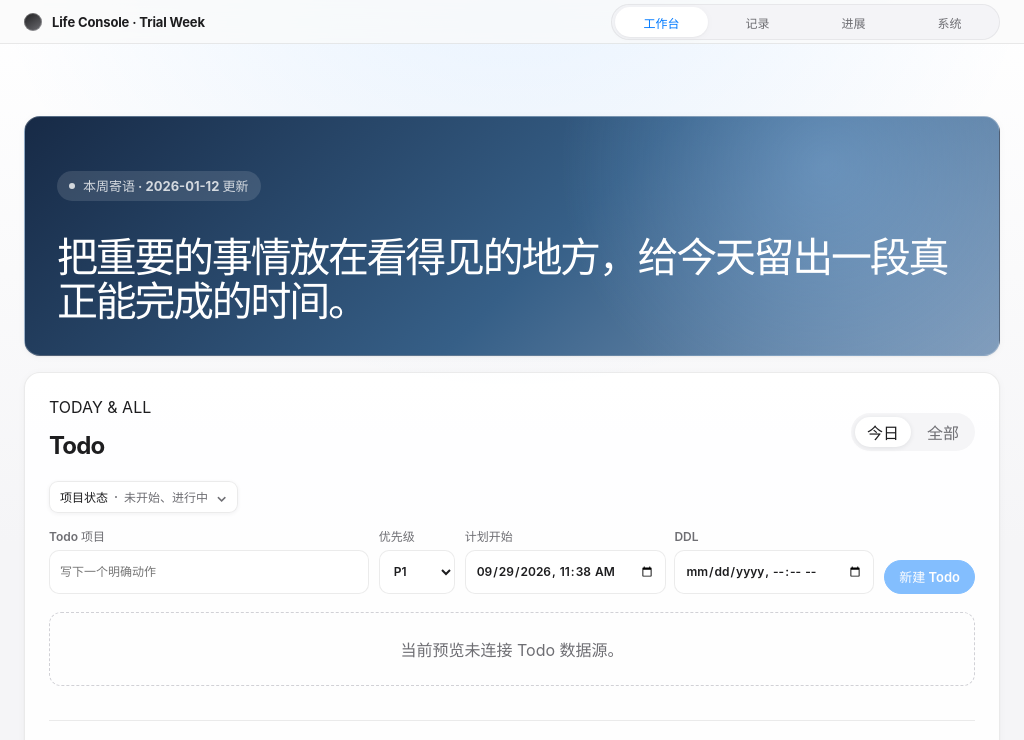
Test case: Life Console synthetic UI › saves conversation capture without browser persistence in demo mode
This screenshot has width=1024, height=740.
Click the button "记录" at [757, 22], box [711,7,804,37]
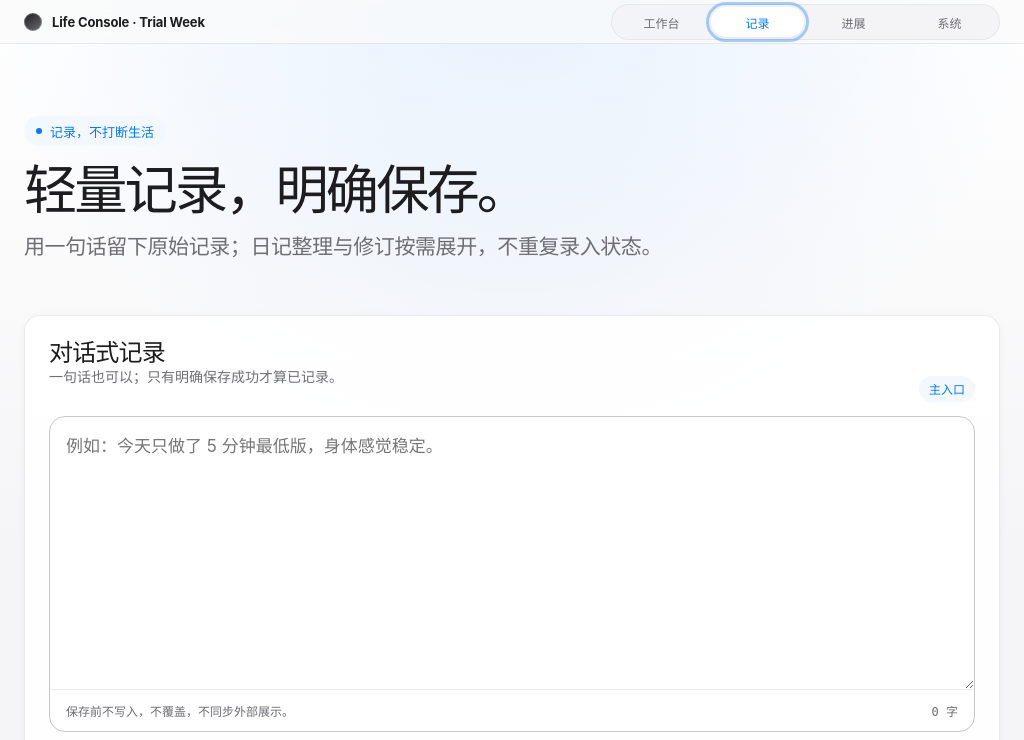
Type "这是一段只用于测试的合成记录。" into the text box named "直接描述想记录的内容" at [512, 553], box [50,417,974,689]
(page scrolled)
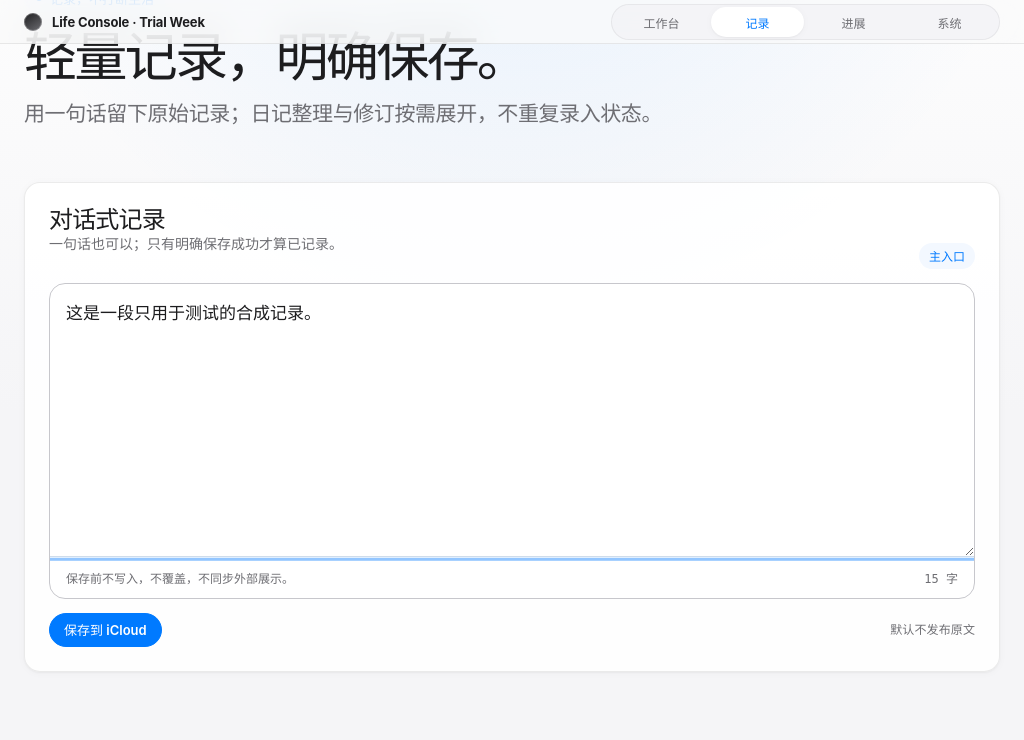
Click the button "保存到 iCloud" at [105, 630], box [49,613,162,647]
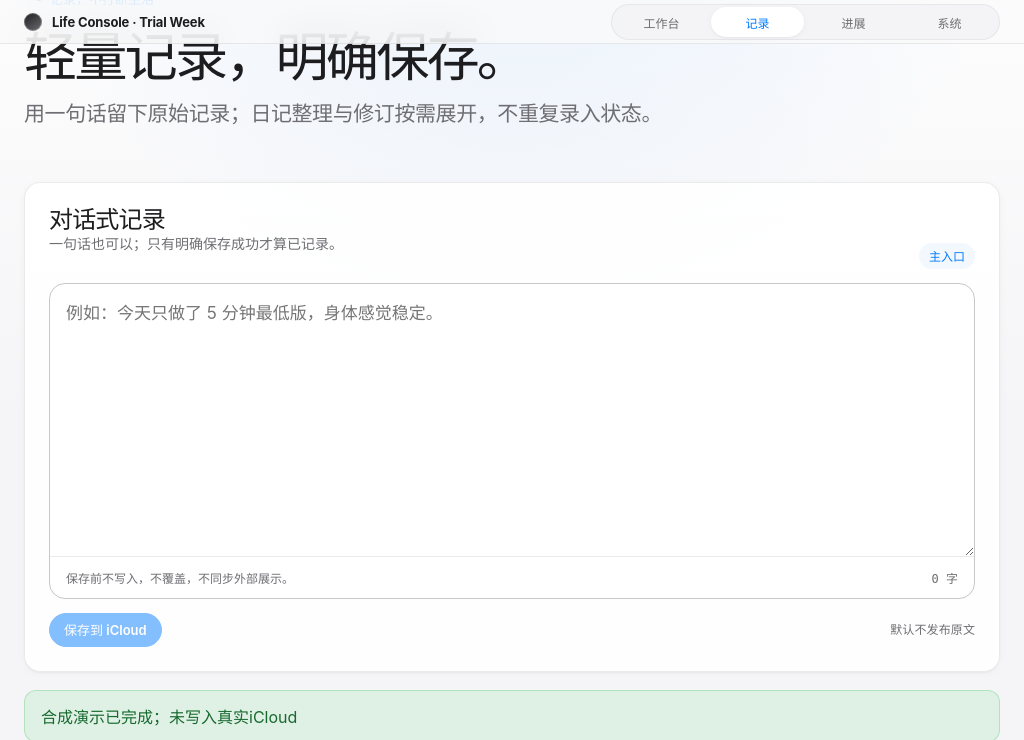
Expected: the message shows "合成演示", [41,707,297,727]
